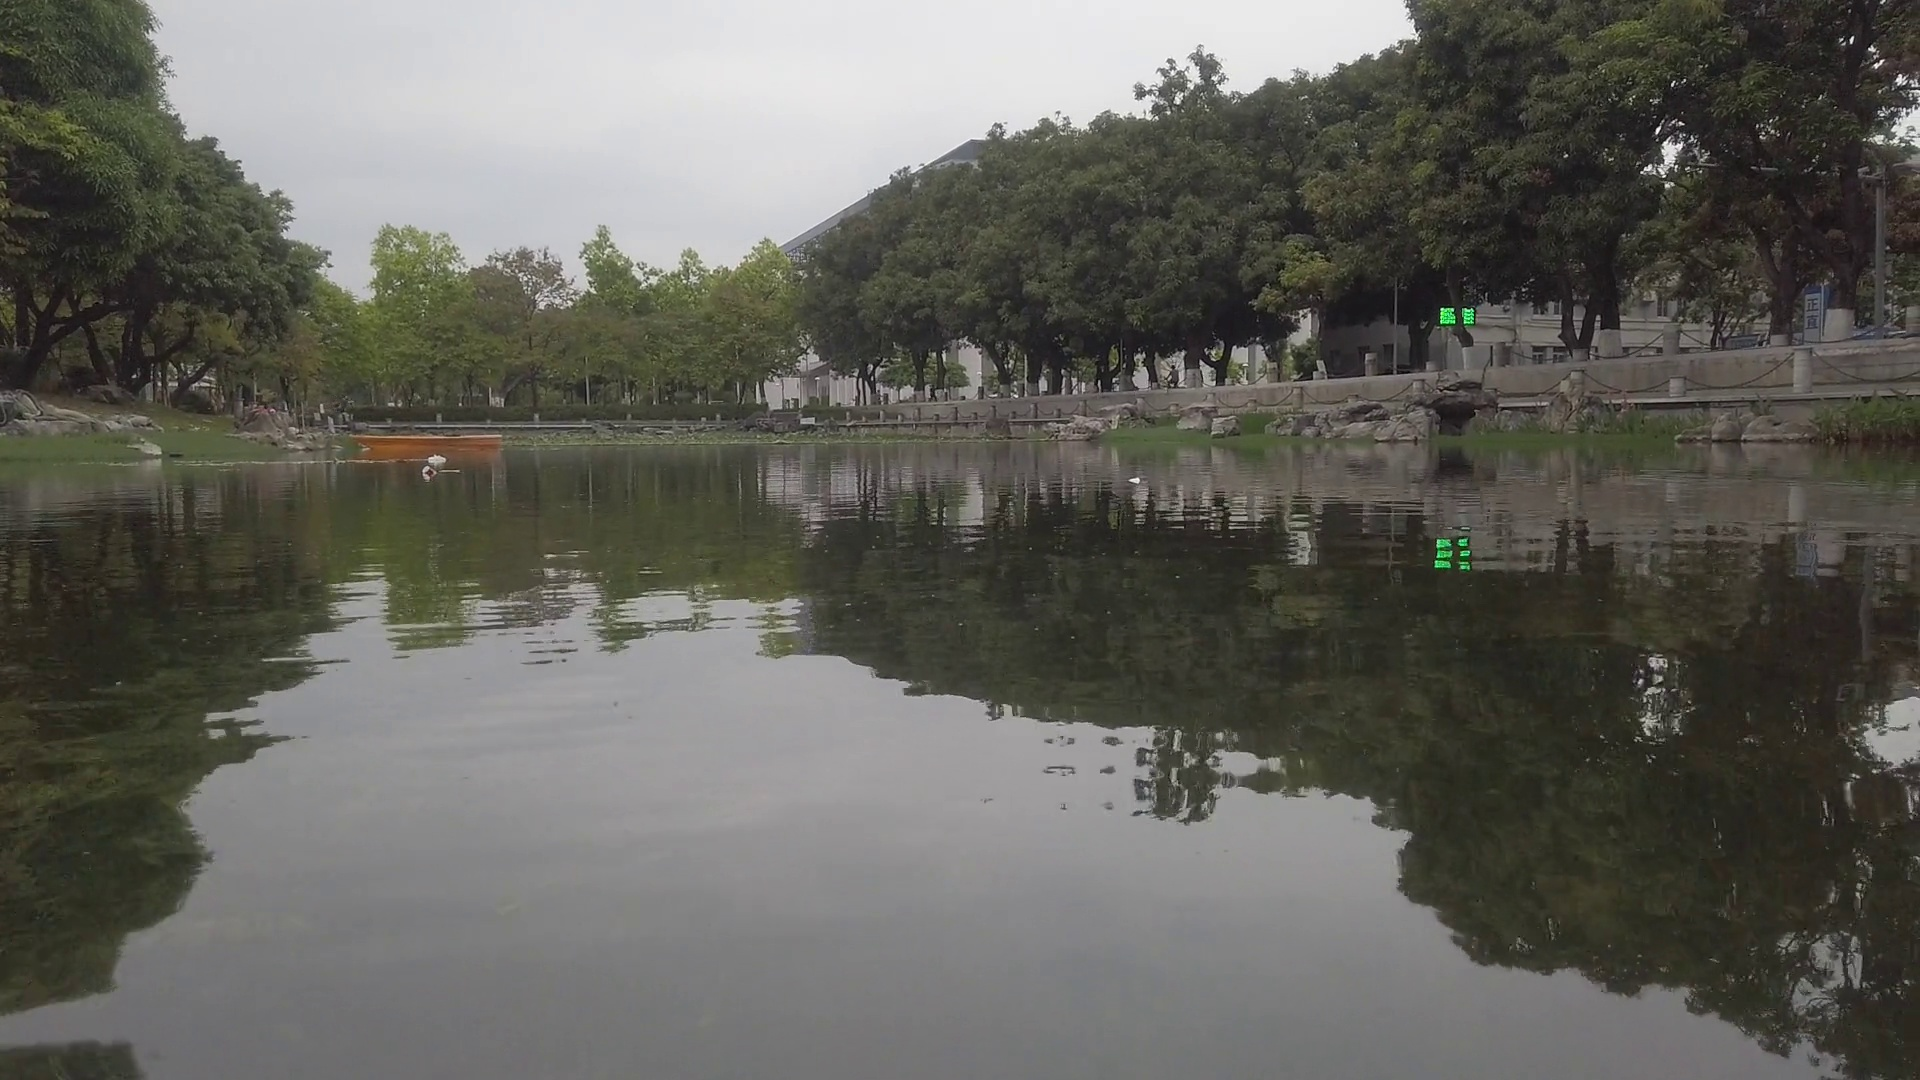bottle: (423, 464, 434, 473)
paper: (1127, 473, 1139, 487)
plastic: (427, 456, 444, 463)
